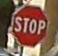stop: (10, 3, 48, 47)
